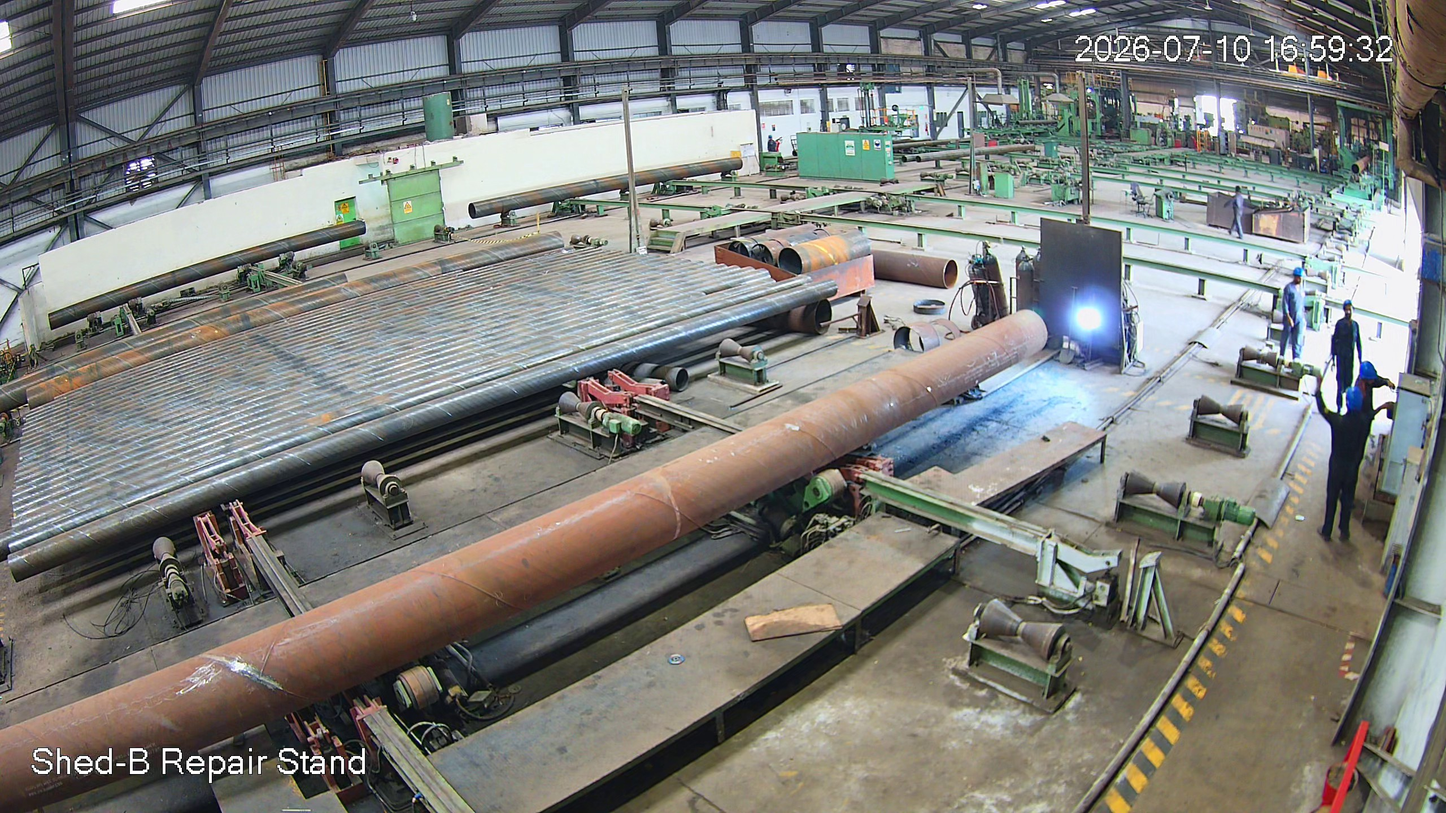Helmet: (1332, 382, 1372, 419), (1339, 290, 1361, 323), (1287, 262, 1309, 291)
Person: (1322, 385, 1369, 562), (1279, 266, 1314, 376), (1331, 294, 1365, 398)
